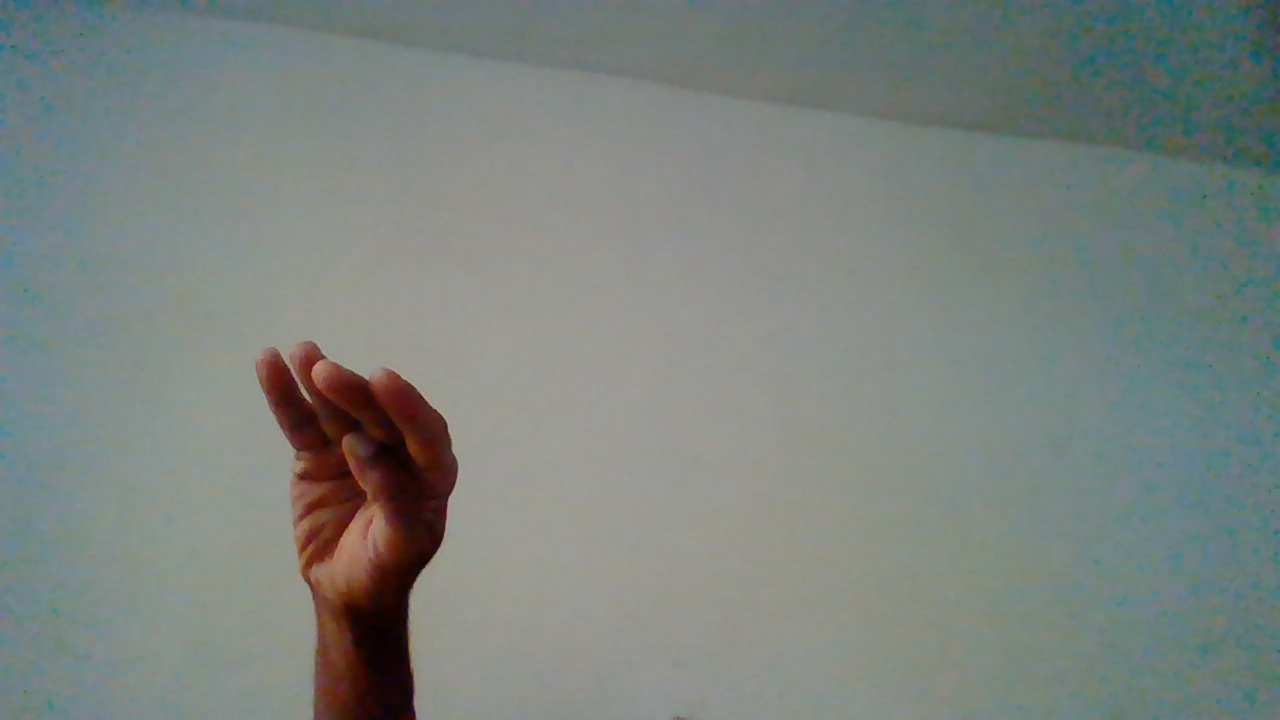me: (250, 340, 468, 714)
